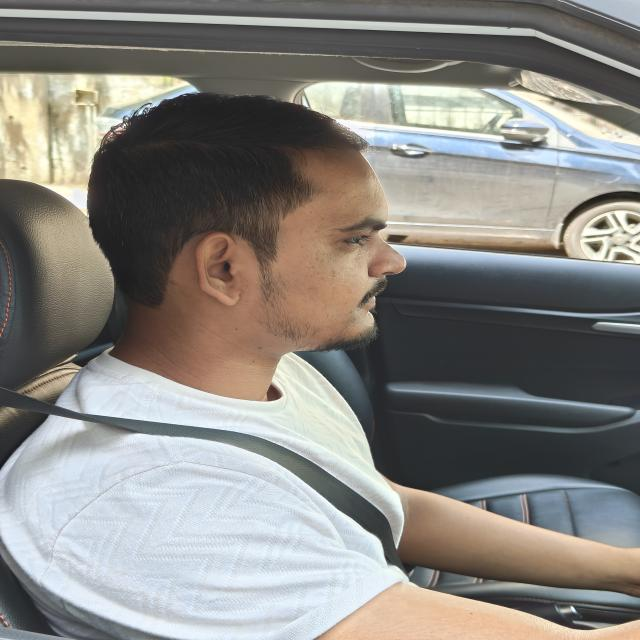seatbelt: (0, 362, 433, 569)
